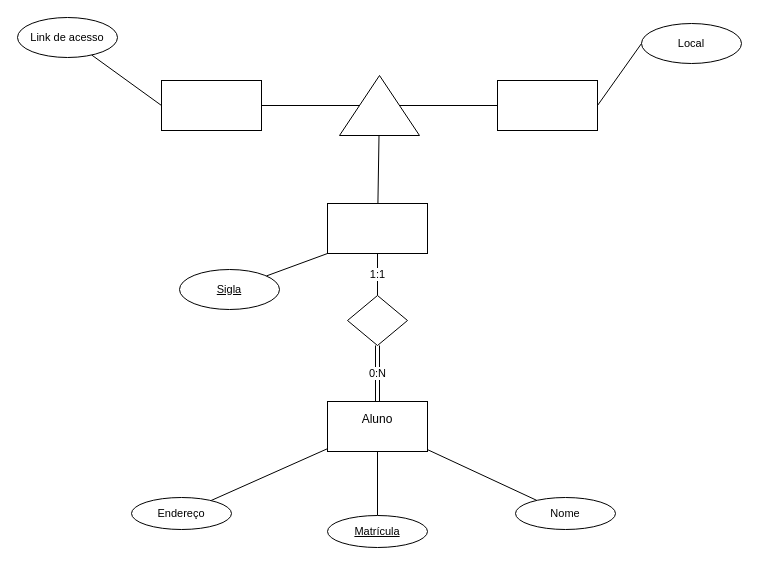
This 759x565 diagram has some shape labels left out. The shapes that lost their labels are listed below. From the top down, each one's centre as x and y in pixels, then its label:
At (x=211, y=105): "EAD".
At (x=547, y=105): "Presencial".
At (x=377, y=228): "Curso".
At (x=377, y=320): "Possui".
